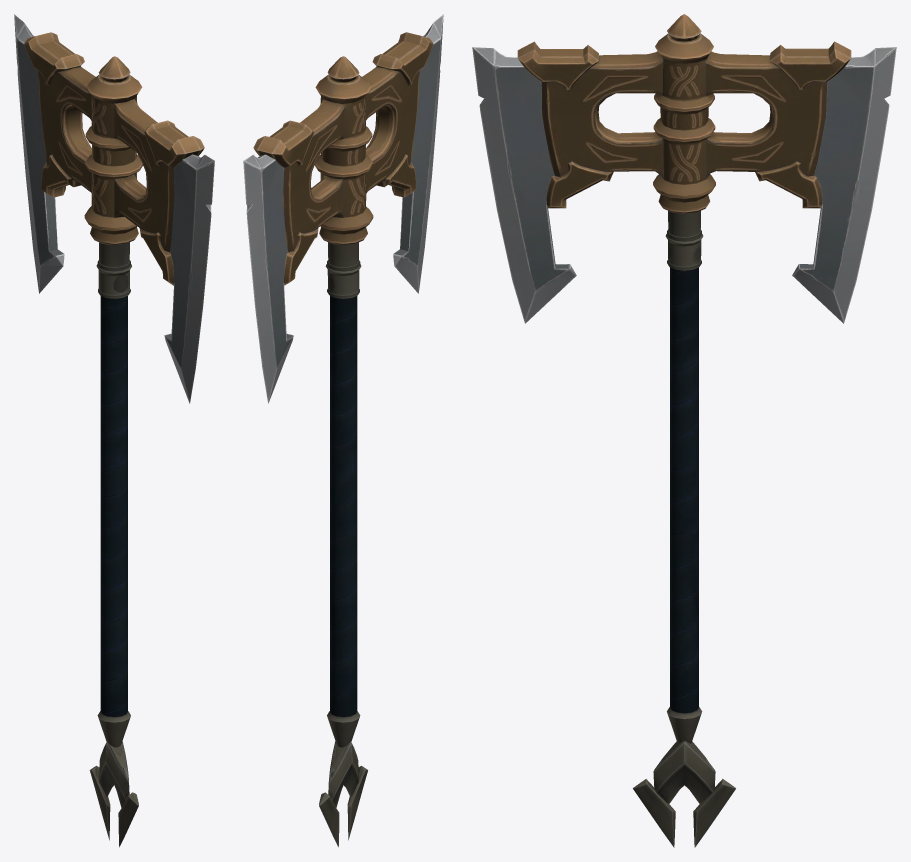
Rendered from axe.glb.
3 views of the same model, side by side, from view 1: azimuth 30°, elevation 25°; view 2: azimuth 150°, elevation 25°; view 3: azimuth 270°, elevation 25° (orthographic). The views are drawn at different scales.
Visible parts, largest first — view 1: Nobilisaxe; view 2: Nobilisaxe; view 3: Nobilisaxe.
Boxes of the visible parts, x1,y1,x2,y2 form: Nobilisaxe: (14, 14, 214, 847); Nobilisaxe: (243, 14, 443, 847); Nobilisaxe: (472, 14, 896, 847).
Bounding box in the file's own units: 0.103 × 1.5 × 0.691.
Materials: 1 (1 with a texture image).
